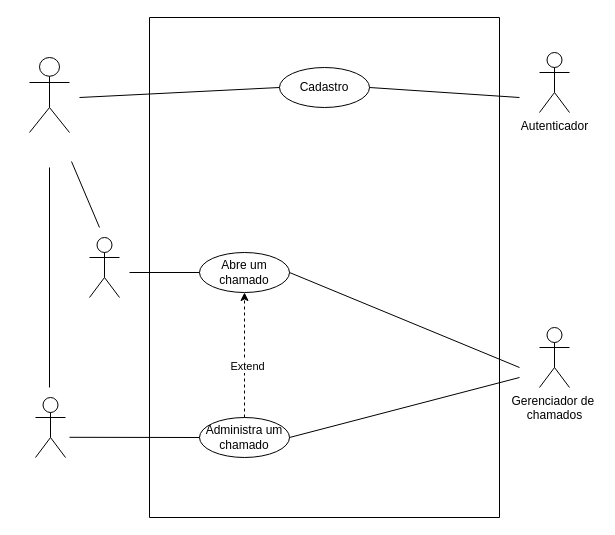
The diagram is 615 pixels wide and 535 high, and some of its shapes have lost their labels. Each missing label, with the box of its shape:
Cliente: (88, 236, 120, 298)
Colaborador: (34, 396, 66, 458)
Usuáiro: (28, 56, 70, 132)
